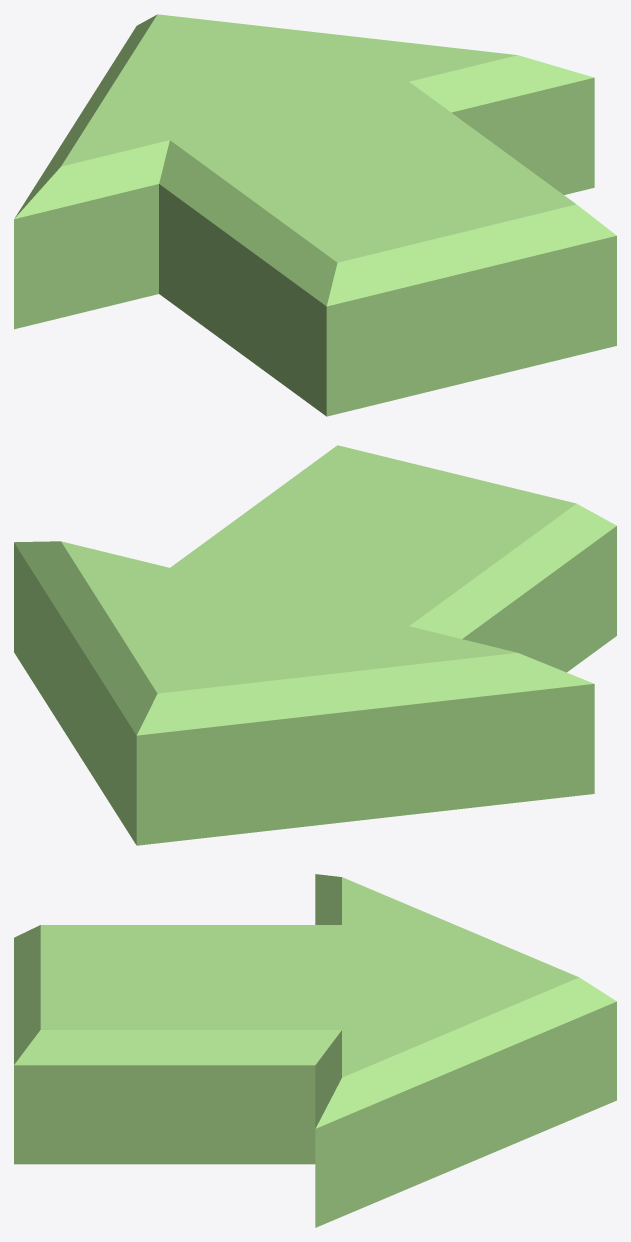
The model's file is roadside_arrow.glb.
3 views of the same model, one above another, from view 1: azimuth 30°, elevation 25°; view 2: azimuth 150°, elevation 25°; view 3: azimuth 270°, elevation 25° (orthographic). The views are drawn at different scales.
Parts seen in each view (by area): view 1: Plane.001; view 2: Plane.001; view 3: Plane.001.
Boxes of the visible parts, x1,y1,x2,y2 form: Plane.001: (14,14,616,416); Plane.001: (14,445,616,845); Plane.001: (14,874,616,1227).
Bounding box in the file's own units: 8.23 × 1.85 × 8.23.
